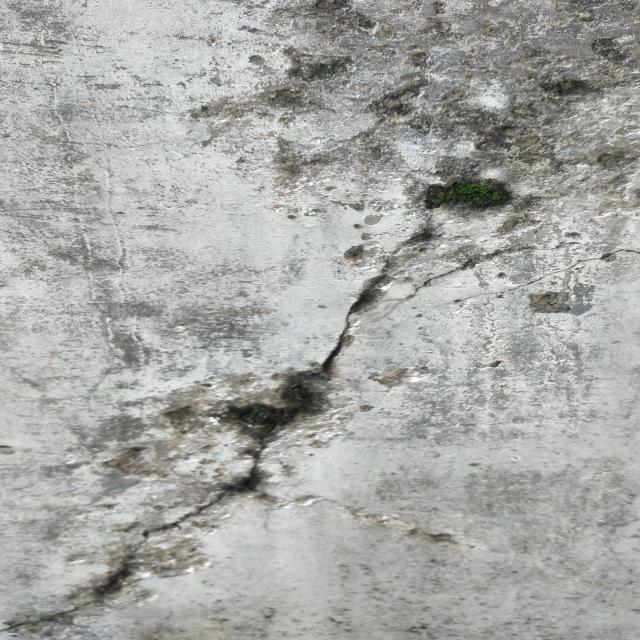Crack: (3, 219, 430, 632)
